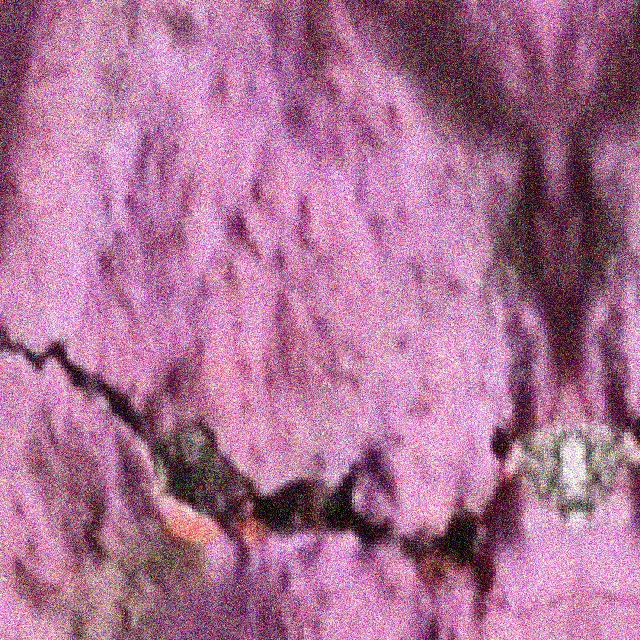SurfaceCrack: (0, 284, 544, 580)
